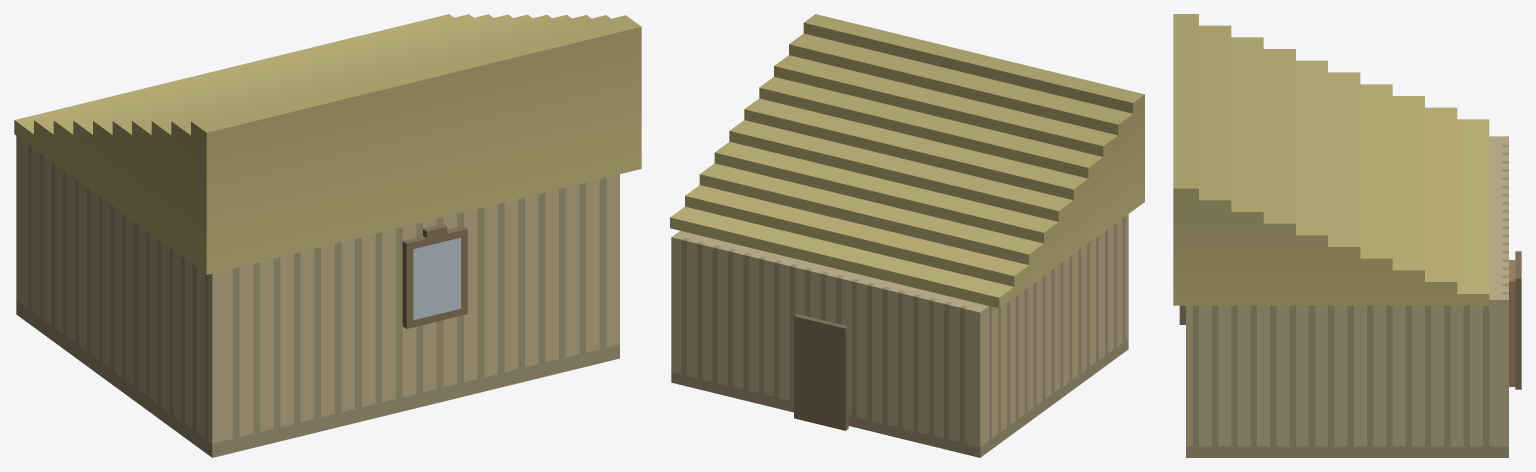
The model's file is choza_curandero_02.glb.
The picture shows the model from 3 angles, left to right: view 1: azimuth 30°, elevation 25°; view 2: azimuth 150°, elevation 25°; view 3: azimuth 270°, elevation 25°; orthographic projection. The views are drawn at different scales.
Visible parts, largest first — view 1: choza_curandero_02; view 2: choza_curandero_02; view 3: choza_curandero_02.
Part boxes in pixels (x1,y1,x2,y2): choza_curandero_02: (14, 14, 641, 457); choza_curandero_02: (670, 14, 1144, 457); choza_curandero_02: (1173, 14, 1521, 457).
Size of the model in its own units: 6.4 by 4.7 by 5.4.
